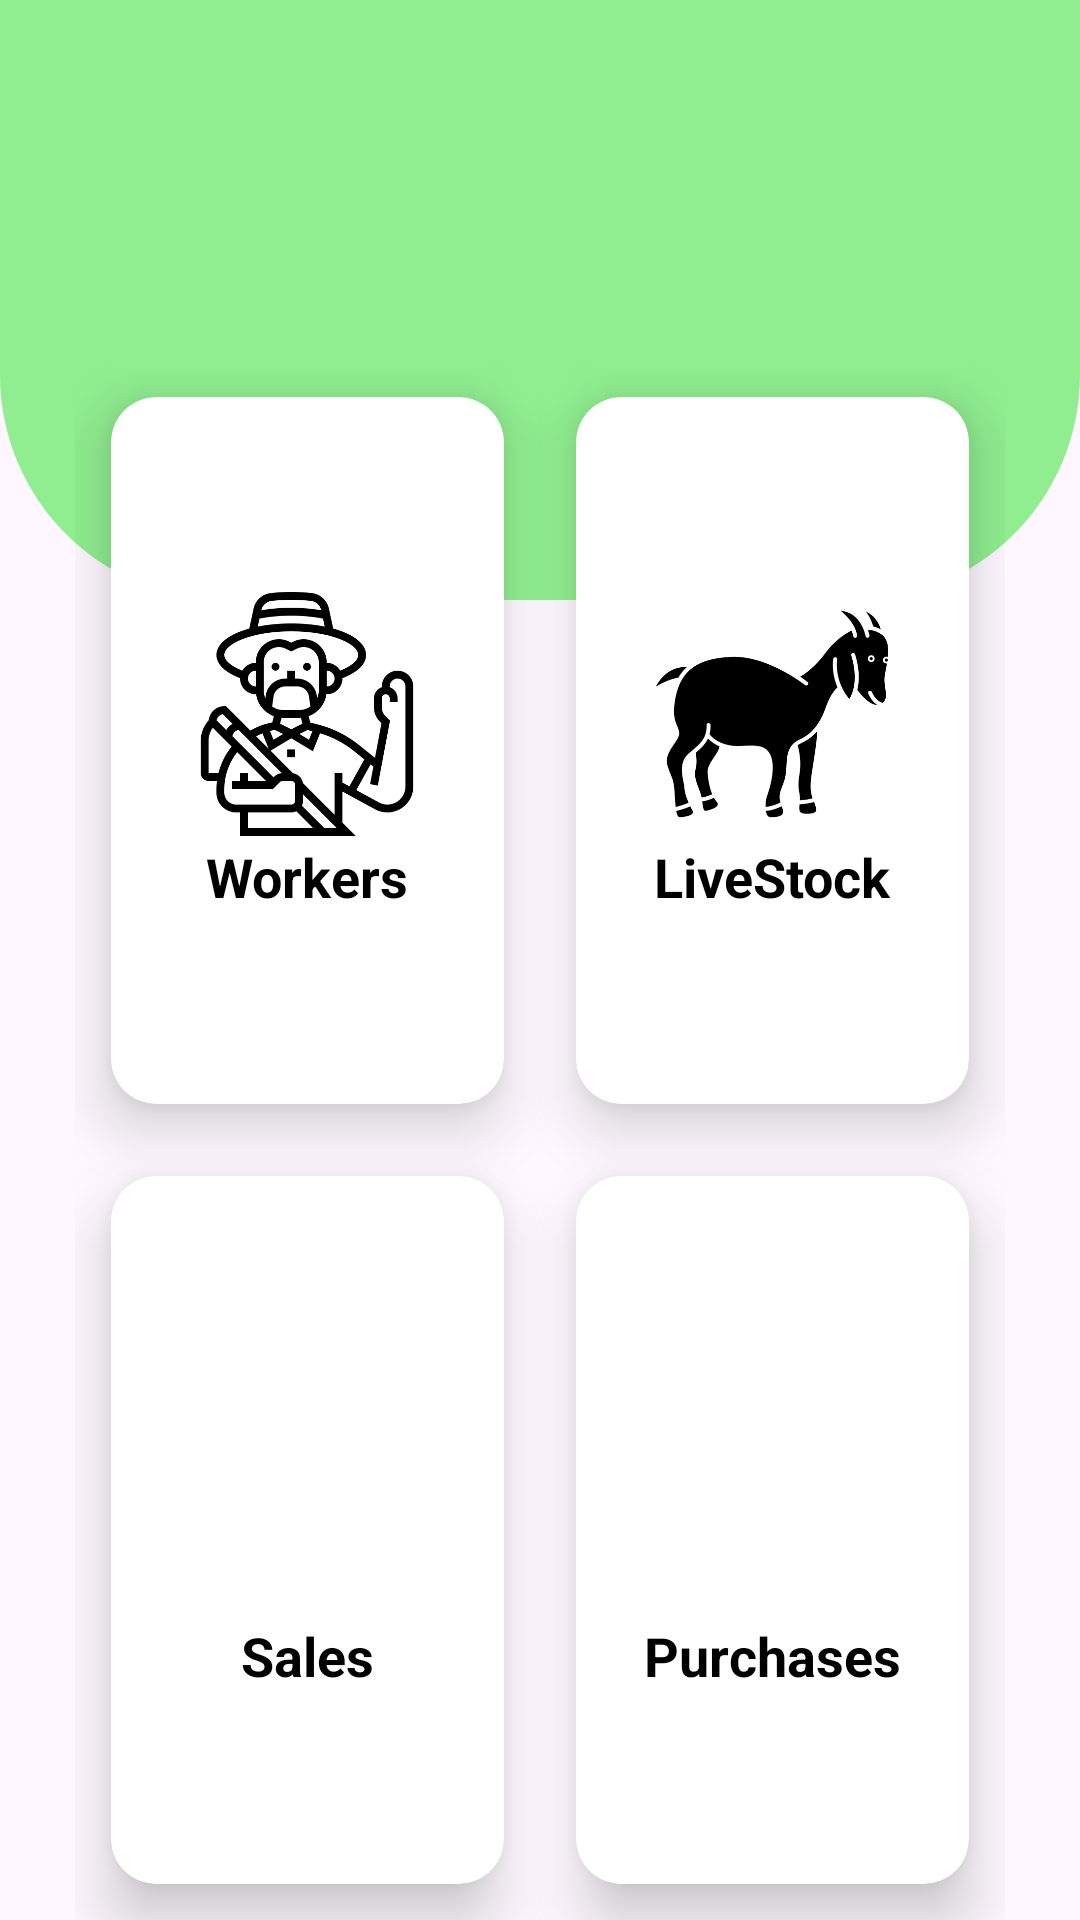

Icon bounding boxes for this 1080*1920 phone screenshot, format bbox(x1, y1, x2, y2):
farmer: bbox(200, 592, 414, 836)
goat: bbox(656, 611, 888, 818)
